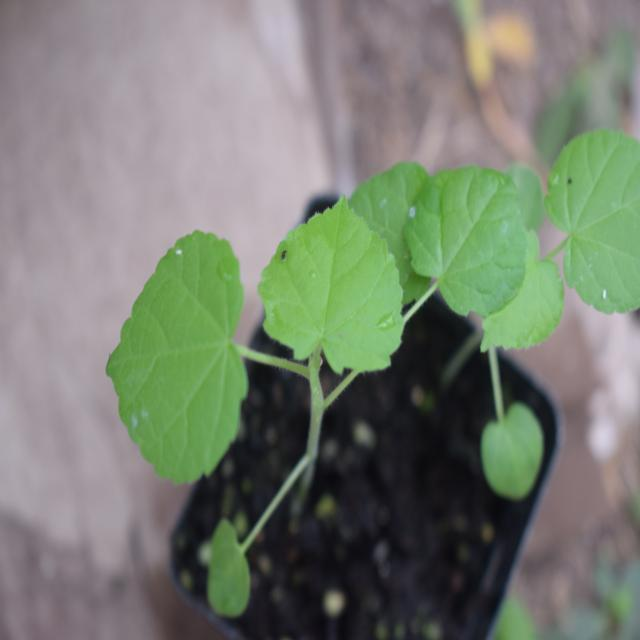abutilon theophrasti: (90, 166, 510, 474)
